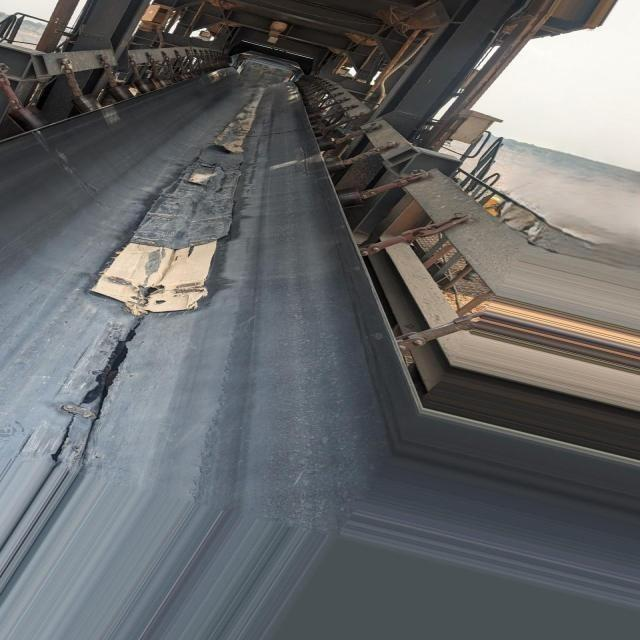Tear: (79, 307, 144, 461), (52, 408, 81, 464)
